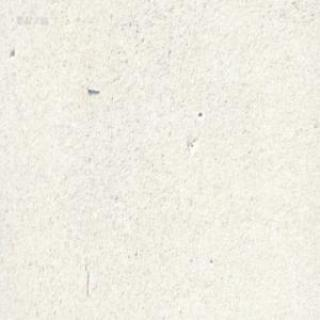Nailtrack_idkeyframe: (86, 84, 100, 93)
